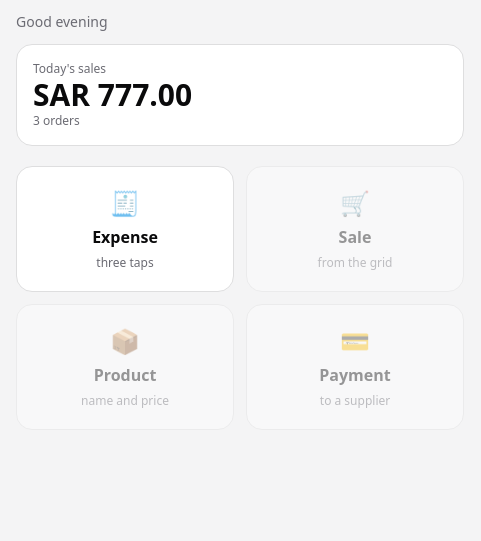
it: QuickEntry › returns to the home screen after a save, so the next entry is one tap away
Click the button "🧾 Expense three taps".
click(125, 229)  # box [16,166,234,292]
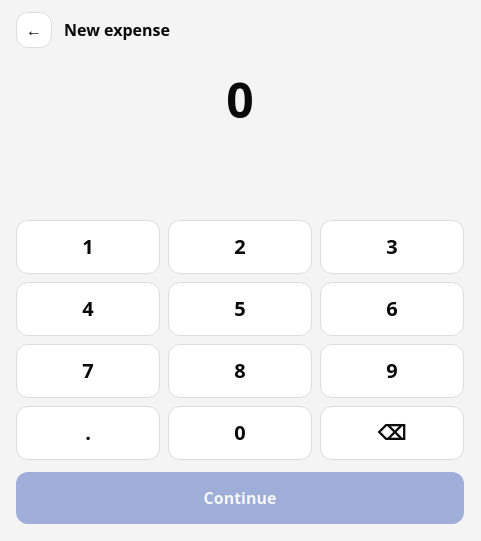
Click the button "5".
click(240, 309)  # box [168,282,312,336]
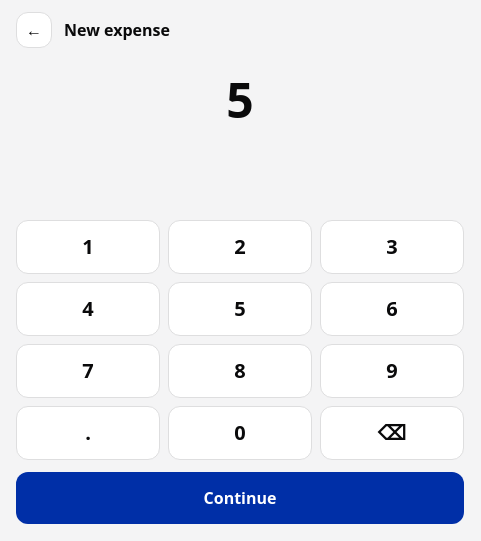
Click the button "0".
click(240, 433)  # box [168,406,312,460]
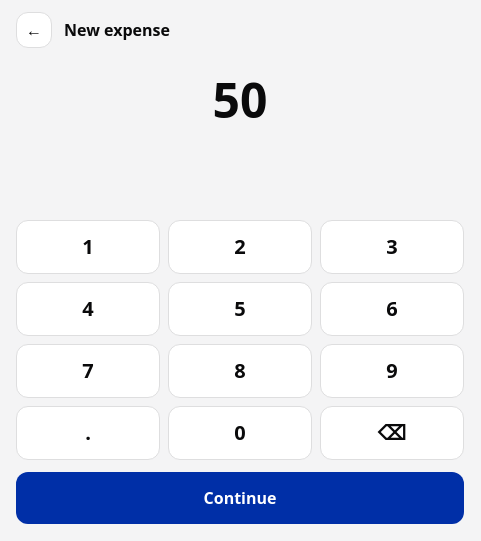
Click the button "Continue".
click(240, 498)  # box [16,472,464,524]
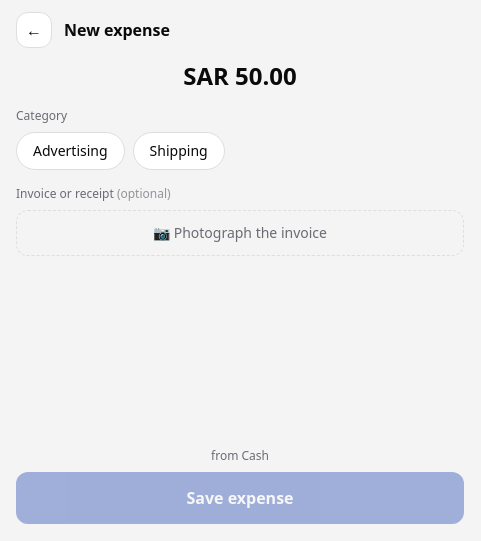
Click the button "Advertising".
click(70, 151)  # box [16,132,125,170]
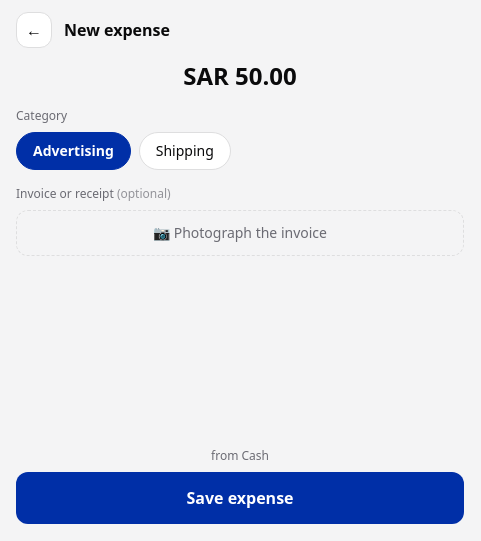
Click the button "Save expense".
click(240, 498)  # box [16,472,464,524]
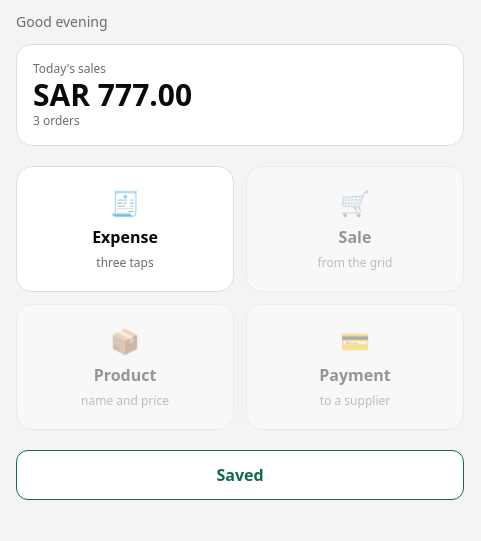
Expected: the text "Saved" is shown, [216,464,264,486]
Expected: the button "🧾 Expense three taps" is enabled, [16,166,234,292]
